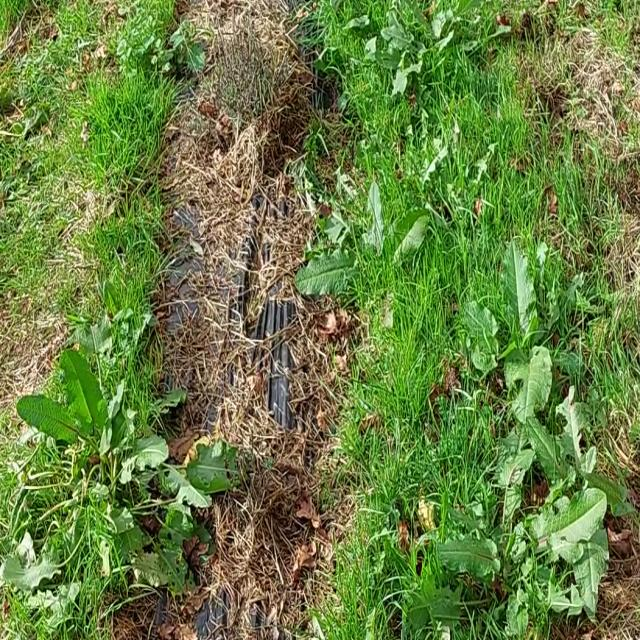organic waste: (8, 308, 234, 605), (413, 465, 613, 640), (439, 255, 596, 426), (510, 383, 640, 570), (312, 158, 445, 308), (348, 0, 507, 81)
